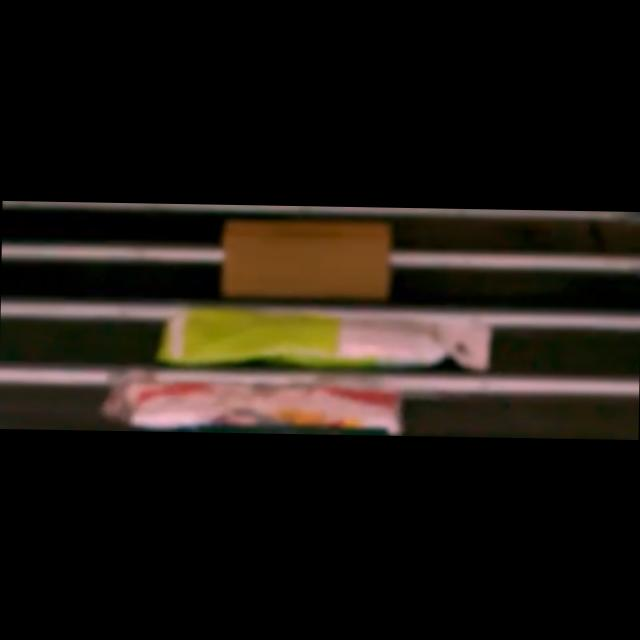box: (222, 220, 390, 296)
mailer: (164, 308, 491, 372), (111, 372, 402, 436)
